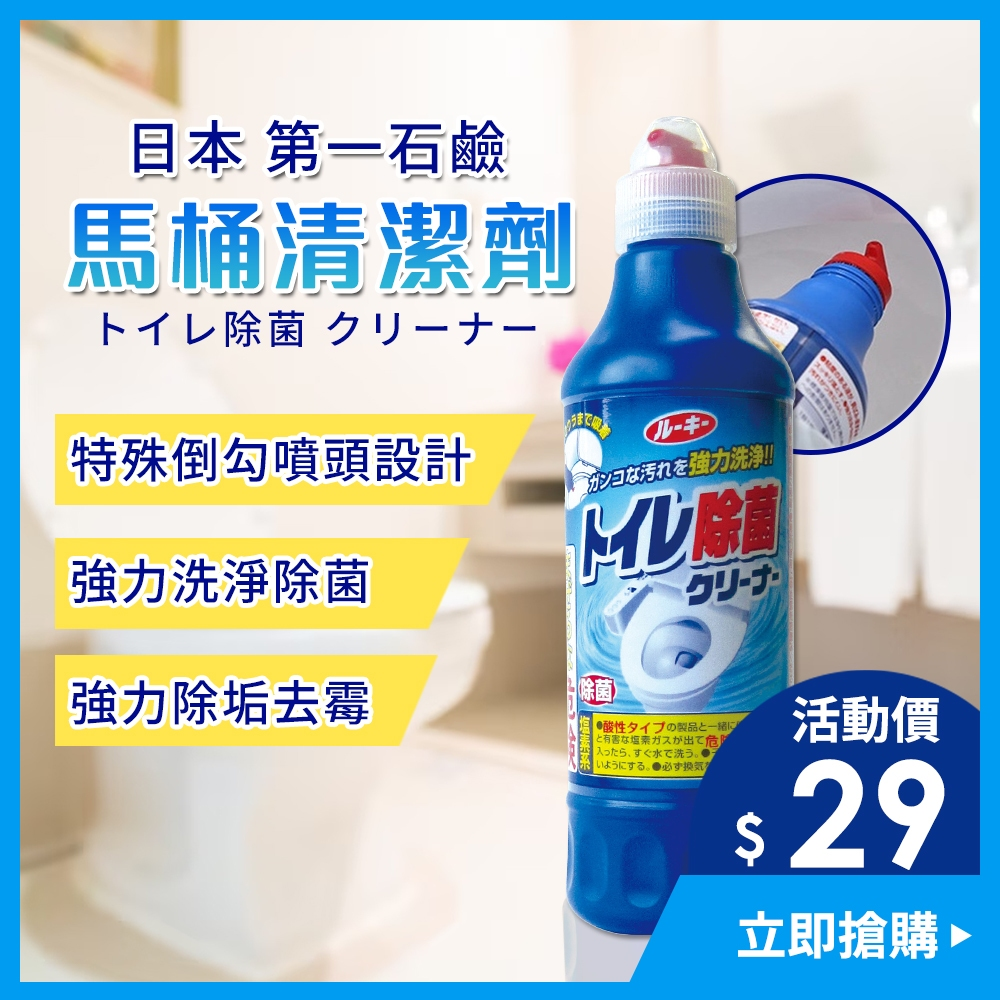cleaner: (550, 112, 836, 982)
